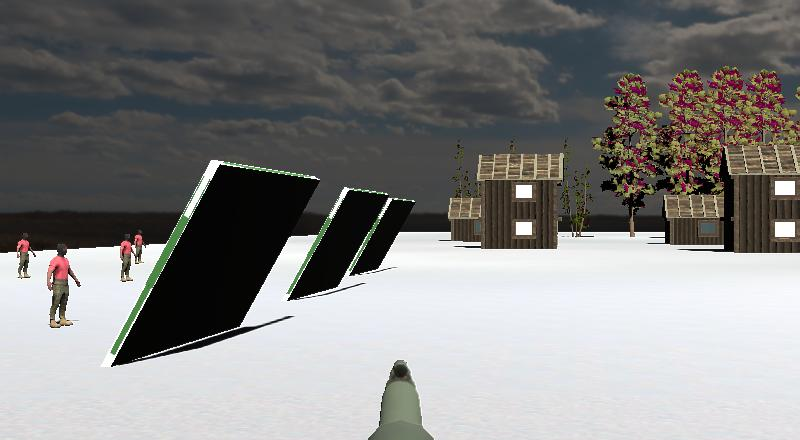House: (459, 135, 578, 271), (702, 123, 800, 274), (652, 184, 738, 263), (440, 189, 493, 250)
Human: (34, 234, 94, 343), (111, 225, 150, 290), (8, 225, 42, 286)
